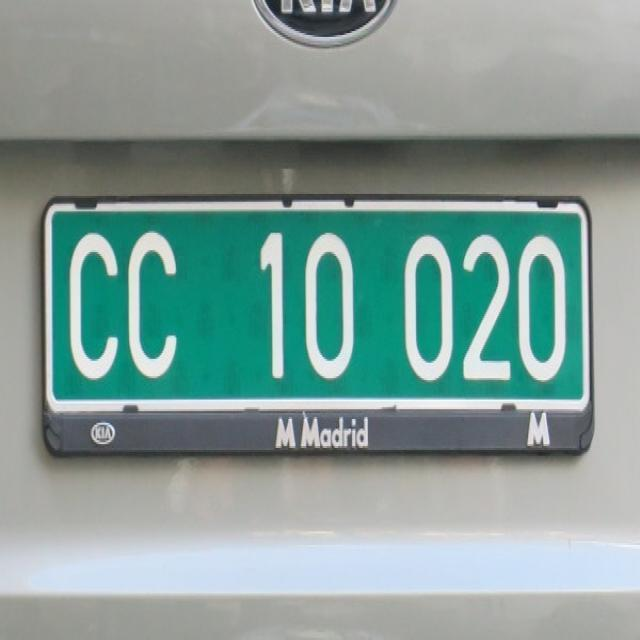LicensePlate: (31, 157, 611, 491)
